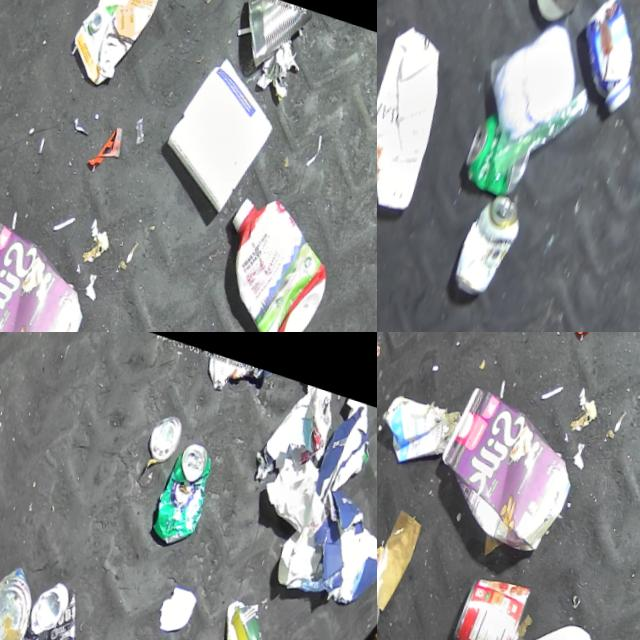can: (453, 182, 535, 302), (149, 430, 225, 547), (460, 102, 547, 202), (451, 564, 540, 640), (227, 0, 315, 74), (5, 570, 96, 640), (0, 554, 48, 640), (377, 529, 409, 636), (145, 405, 186, 461), (528, 0, 601, 27)
milk_jug: (377, 16, 469, 214), (472, 598, 625, 640)
non_white_jug: (424, 378, 596, 561), (198, 181, 352, 332), (0, 209, 107, 332), (62, 0, 170, 94)
